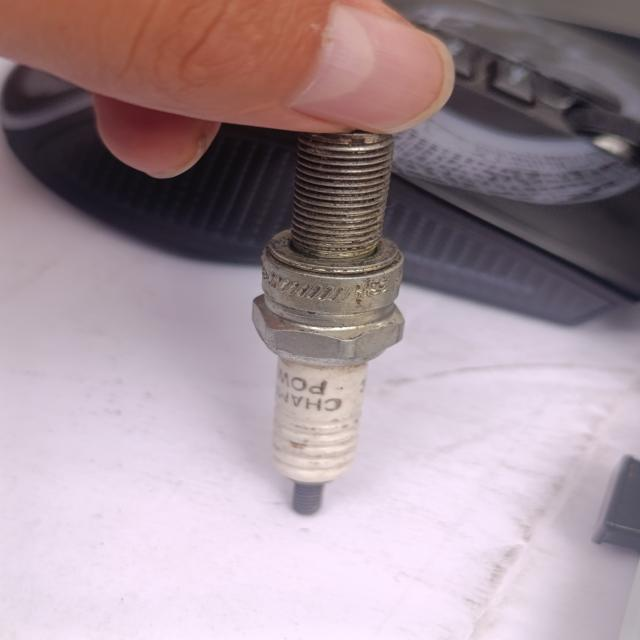bujia: (253, 131, 404, 514)
